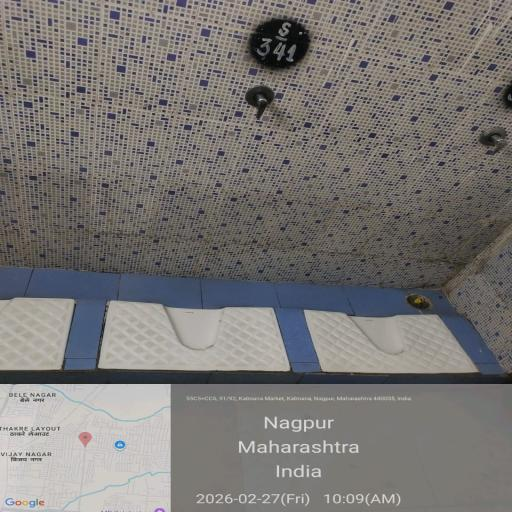clean_floor: (15, 9, 498, 253)
clean_urinal: (0, 271, 508, 452)
